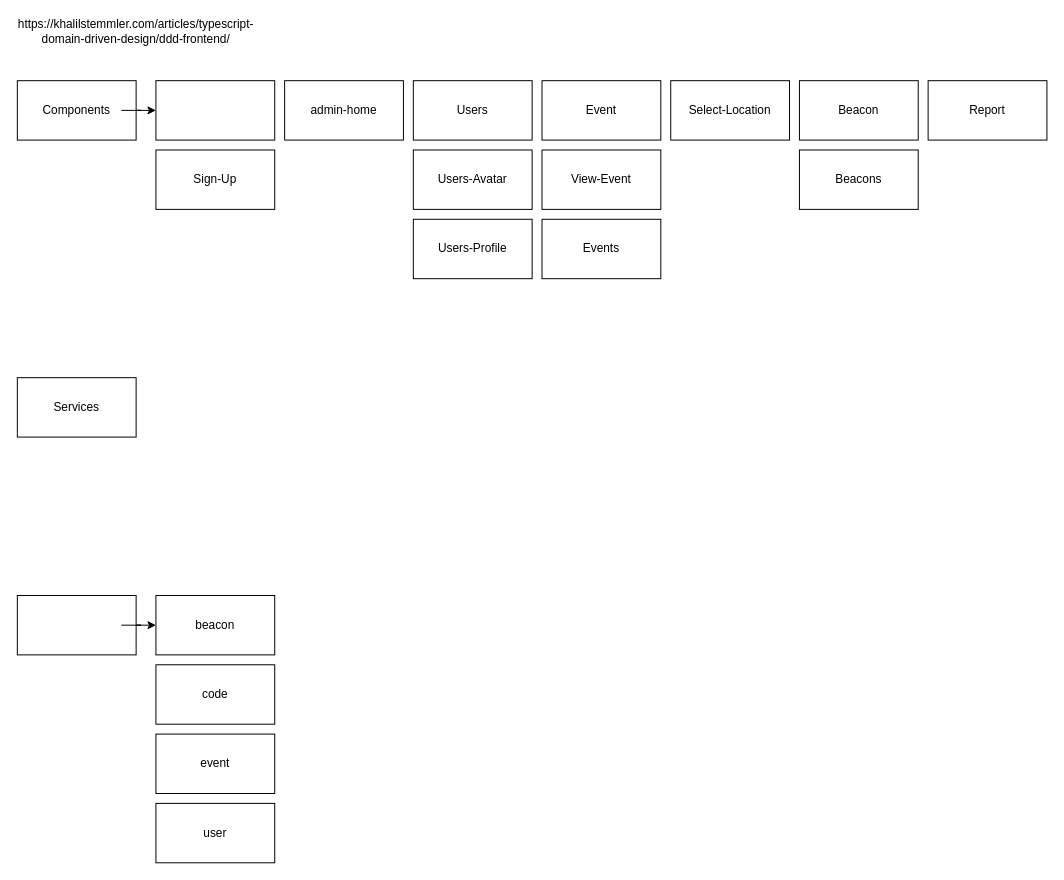
The diagram is 1064 pixels wide and 880 high, and some of its shapes have lost their labels. Here are the shapes that lost their labels. From the top down, the centre of each, then its label:
At pixel 215 110: "Login".
At pixel 76 624: "Models".
